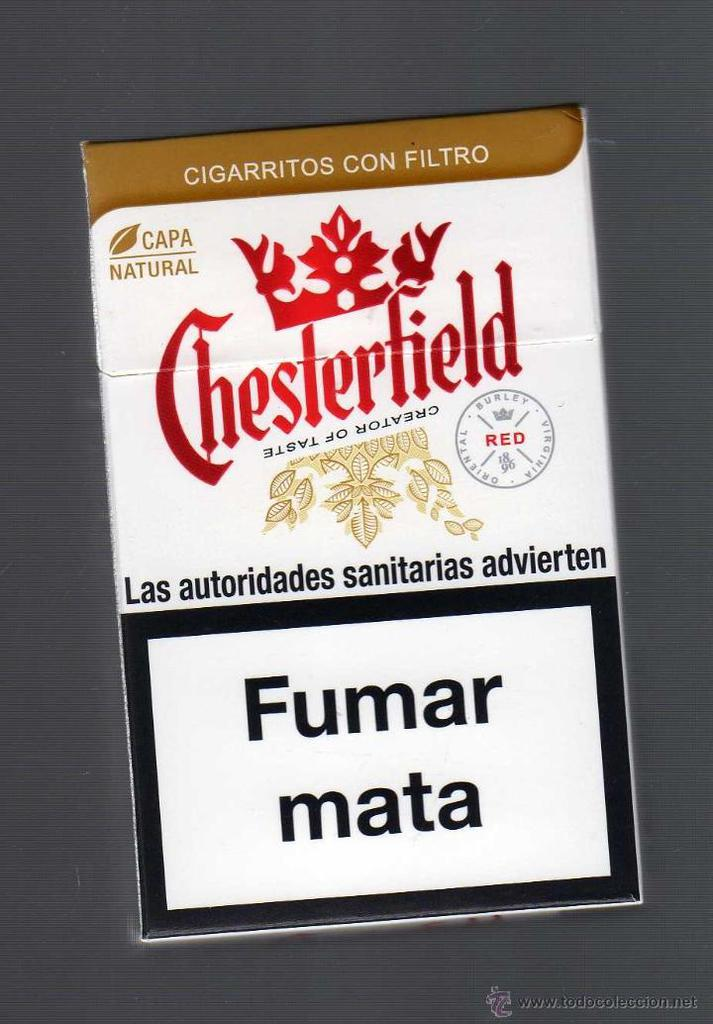chesterfield_red: (134, 139, 606, 907)
